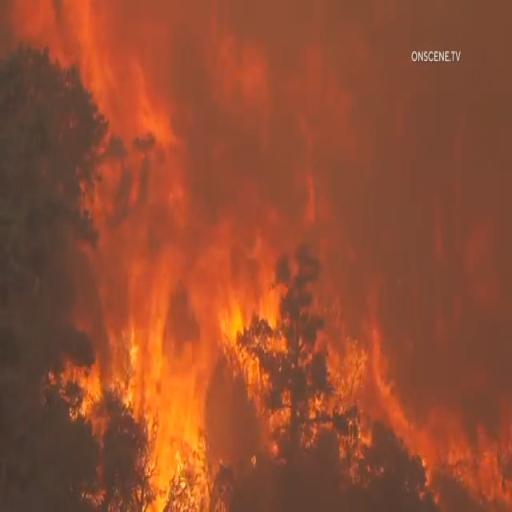fire: (233, 254, 512, 512), (68, 235, 236, 512)
